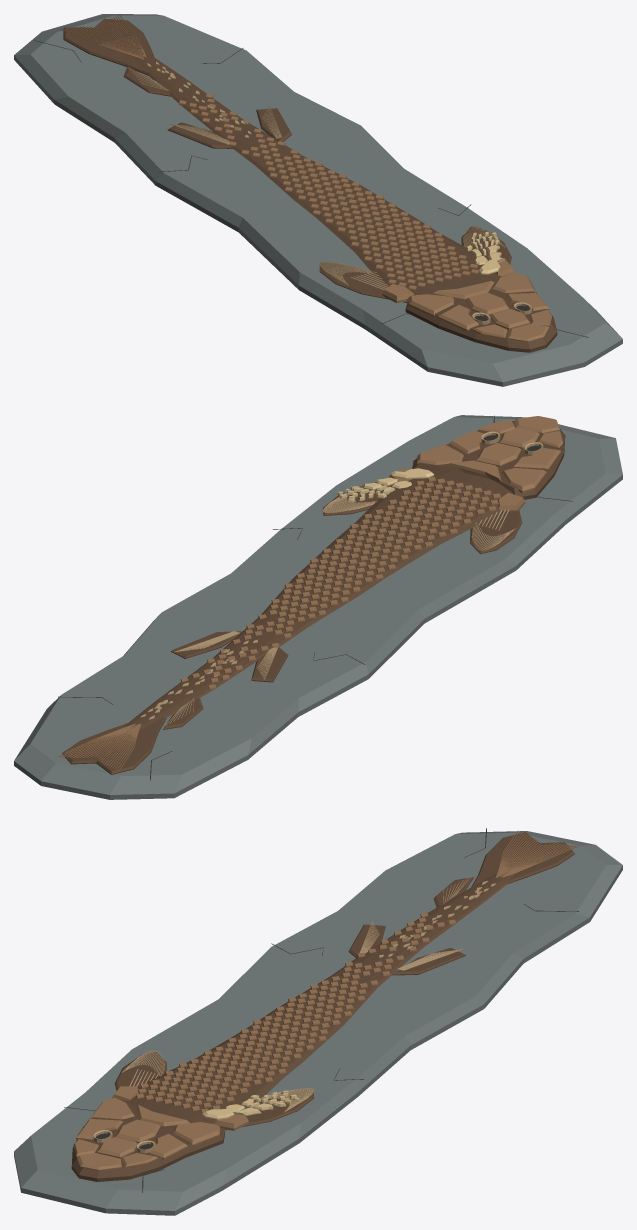
3 views of the same model, one above another, from view 1: azimuth 30°, elevation 25°; view 2: azimuth 150°, elevation 25°; view 3: azimuth 330°, elevation 25° (orthographic). The views are drawn at different scales.
Visible parts, largest first — view 1: 01_matrix_slab, 03_compressed_trunk, 09_articulated_scales, 05_cranial_roof_plates, 04_cranial_substrate, 24_caudal_fin_impression, 11_pectoral_fin_impressions, 25_caudal_lepidotrichia, 20_pelvic_fin_impressions, 12_pectoral_lepidotrichia, 21_pelvic_fin_rays, 08_opercular_fragments (+1 smaller); view 2: 01_matrix_slab, 03_compressed_trunk, 09_articulated_scales, 05_cranial_roof_plates, 24_caudal_fin_impression, 11_pectoral_fin_impressions, 04_cranial_substrate, 25_caudal_lepidotrichia, 20_pelvic_fin_impressions, 12_pectoral_lepidotrichia, 21_pelvic_fin_rays, 22_anal_impression; view 3: 01_matrix_slab, 03_compressed_trunk, 09_articulated_scales, 05_cranial_roof_plates, 04_cranial_substrate, 24_caudal_fin_impression, 11_pectoral_fin_impressions, 25_caudal_lepidotrichia, 20_pelvic_fin_impressions, 12_pectoral_lepidotrichia, 08_opercular_fragments, 21_pelvic_fin_rays.
Boxes of the visible parts, <box> form: 01_matrix_slab: <box>14,14,622,386</box>; 03_compressed_trunk: <box>119,41,501,300</box>; 09_articulated_scales: <box>179,93,479,290</box>; 05_cranial_roof_plates: <box>408,272,552,342</box>; 04_cranial_substrate: <box>405,277,557,352</box>; 24_caudal_fin_impression: <box>63,18,154,75</box>; 11_pectoral_fin_impressions: <box>319,227,511,302</box>; 25_caudal_lepidotrichia: <box>60,14,146,59</box>; 20_pelvic_fin_impressions: <box>167,108,291,148</box>; 12_pectoral_lepidotrichia: <box>319,225,505,290</box>; 21_pelvic_fin_rays: <box>170,105,281,144</box>; 08_opercular_fragments: <box>382,260,514,302</box>; 01_matrix_slab: <box>14,415,622,799</box>; 03_compressed_trunk: <box>110,470,513,743</box>; 09_articulated_scales: <box>180,477,500,689</box>; 05_cranial_roof_plates: <box>417,416,563,492</box>; 24_caudal_fin_impression: <box>62,717,166,774</box>; 11_pectoral_fin_impressions: <box>322,482,522,554</box>; 04_cranial_substrate: <box>412,421,565,499</box>; 25_caudal_lepidotrichia: <box>57,723,141,771</box>; 20_pelvic_fin_impressions: <box>171,631,288,682</box>; 12_pectoral_lepidotrichia: <box>322,490,515,550</box>; 21_pelvic_fin_rays: <box>173,631,277,680</box>; 22_anal_impression: <box>163,698,203,729</box>; 01_matrix_slab: <box>14,831,622,1215</box>; 03_compressed_trunk: <box>125,860,525,1126</box>; 09_articulated_scales: <box>136,913,456,1113</box>; 05_cranial_roof_plates: <box>73,1097,219,1170</box>; 04_cranial_substrate: <box>71,1100,224,1181</box>; 24_caudal_fin_impression: <box>471,832,574,887</box>; 11_pectoral_fin_impressions: <box>114,1052,314,1130</box>; 25_caudal_lepidotrichia: <box>495,830,579,877</box>; 20_pelvic_fin_impressions: <box>348,924,465,975</box>; 12_pectoral_lepidotrichia: <box>121,1050,314,1112</box>; 08_opercular_fragments: <box>112,1086,248,1130</box>; 21_pelvic_fin_rays: <box>359,921,463,970</box>.
Bounding box in the file's own units: 0.42 × 0.051 × 1.67.
